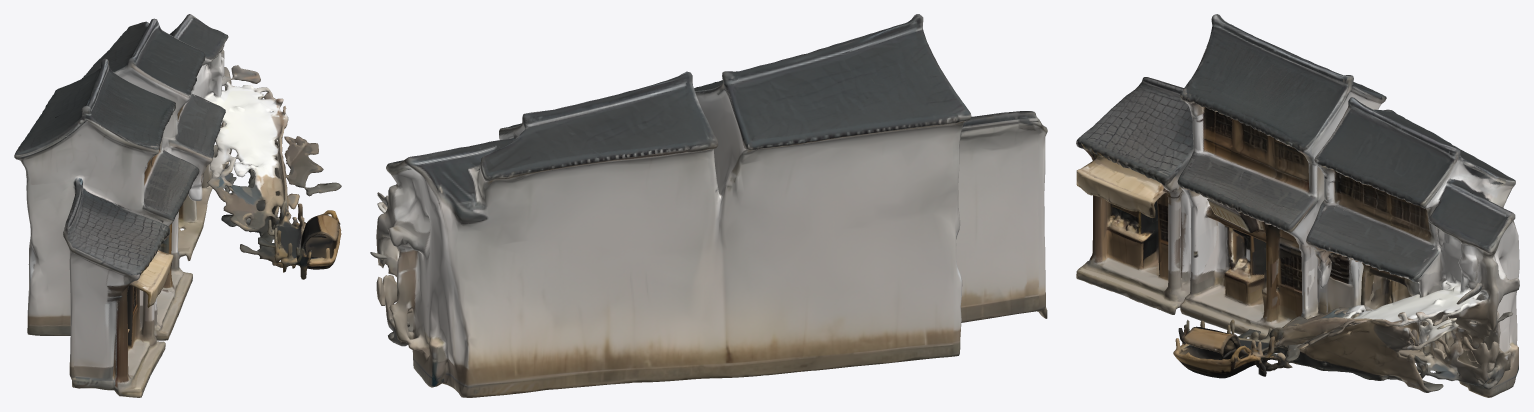
3 views of the same model, side by side, from view 1: azimuth 30°, elevation 25°; view 2: azimuth 150°, elevation 25°; view 3: azimuth 270°, elevation 25° (orthographic). The views are drawn at different scales.
Visible parts, largest first — view 1: material.001; view 2: material.001; view 3: material.001.
Boxes of the visible parts, left/top/right/bottom form: material.001: left=14, top=14, right=341, bottom=397; material.001: left=370, top=14, right=1047, bottom=397; material.001: left=1076, top=14, right=1519, bottom=397.
Size of the model in its own units: 0.8556 by 0.5722 by 0.8536.
Materials: 1 (1 with a texture image).
